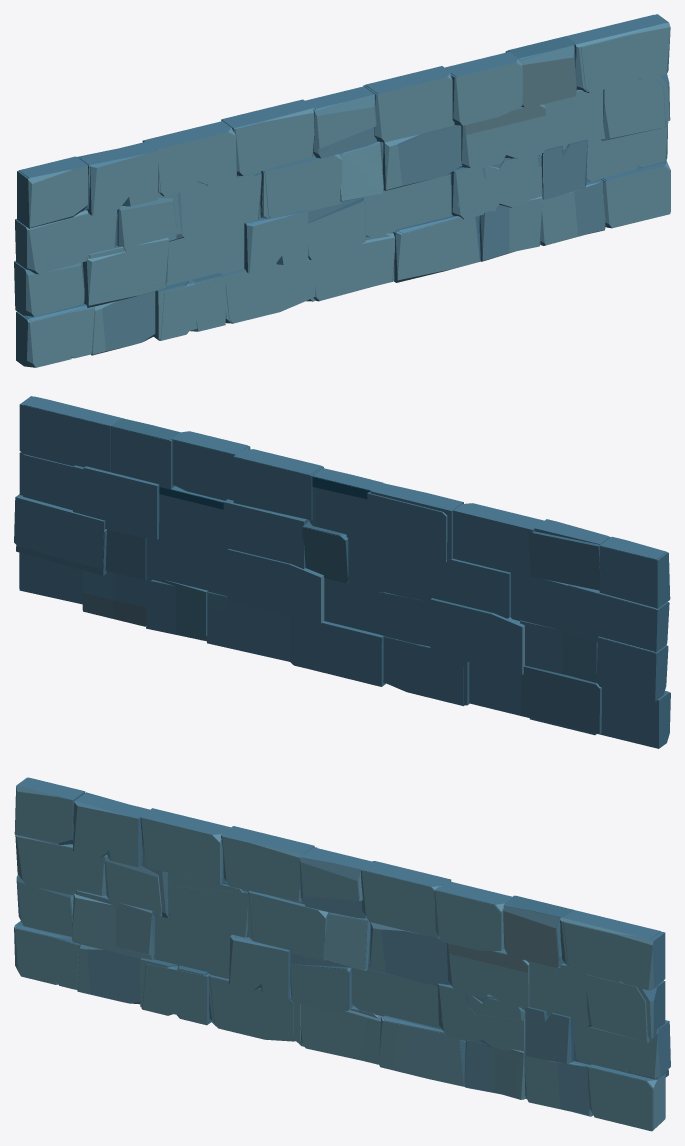
File: Wall2Sided.FBX
3 views of the same model, one above another, from view 1: azimuth 30°, elevation 25°; view 2: azimuth 150°, elevation 25°; view 3: azimuth 330°, elevation 25° (orthographic).
Visible parts, largest first — view 1: Wall2Sided02, Wall2Sided01; view 2: Wall2Sided02, Wall2Sided01; view 3: Wall2Sided02, Wall2Sided01.
Boxes of the visible parts, x1=… form: Wall2Sided02: x1=14, y1=14, x2=670, y2=367; Wall2Sided01: x1=18, y1=14, x2=670, y2=357; Wall2Sided02: x1=14, y1=396, x2=670, y2=748; Wall2Sided01: x1=16, y1=396, x2=668, y2=734; Wall2Sided02: x1=14, y1=777, x2=670, y2=1131; Wall2Sided01: x1=16, y1=777, x2=668, y2=1129.
Size of the model in its own units: 1971 by 568 by 96.59.
